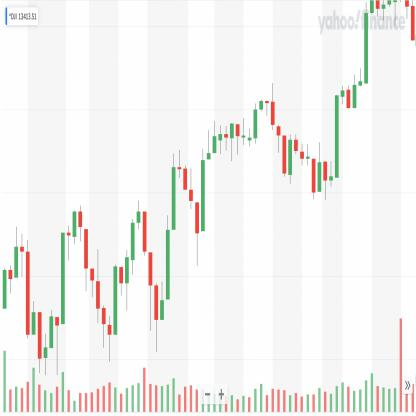Bearish: 3 Black Crows: (141, 207, 159, 359)
Bullish: 3 White Soldiers: (158, 152, 176, 325)
Bullish: Tweezer Bottom: (282, 130, 293, 187)
